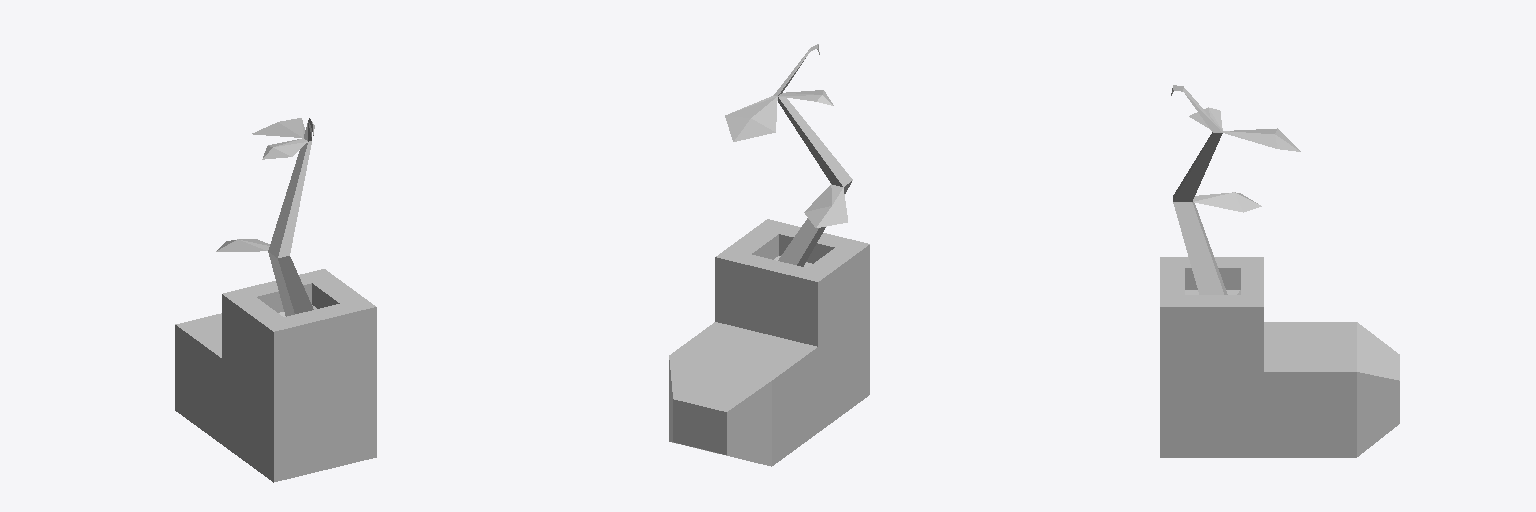
Rendered from Plant.obj.
3 renders of one model, left to right at view 1: azimuth 30°, elevation 25°; view 2: azimuth 150°, elevation 25°; view 3: azimuth 270°, elevation 25°, orthographic.
Visible parts, largest first — view 1: cuboid; view 2: cuboid; view 3: cuboid.
Boxes of the visible parts, box(x1,y1,x2,y2) form: cuboid: box(175, 118, 376, 482); cuboid: box(669, 44, 869, 466); cuboid: box(1160, 85, 1399, 457).
Size of the model in its own units: 0.3678 by 1 by 0.6313.